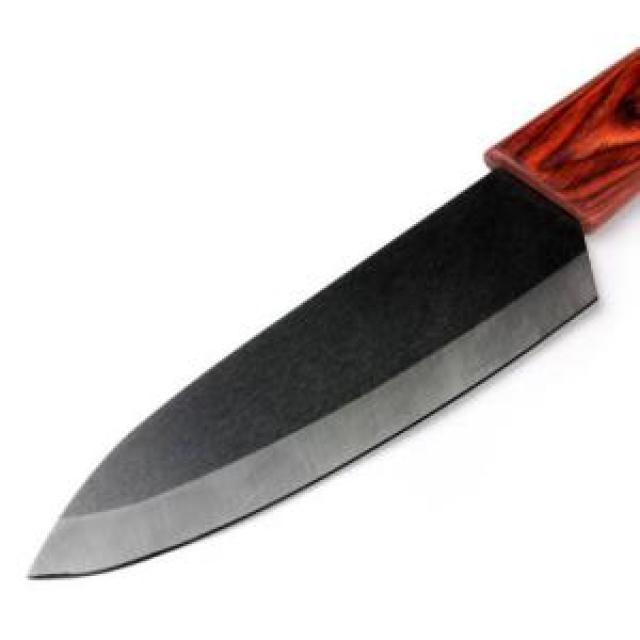knife: (28, 43, 638, 602)
